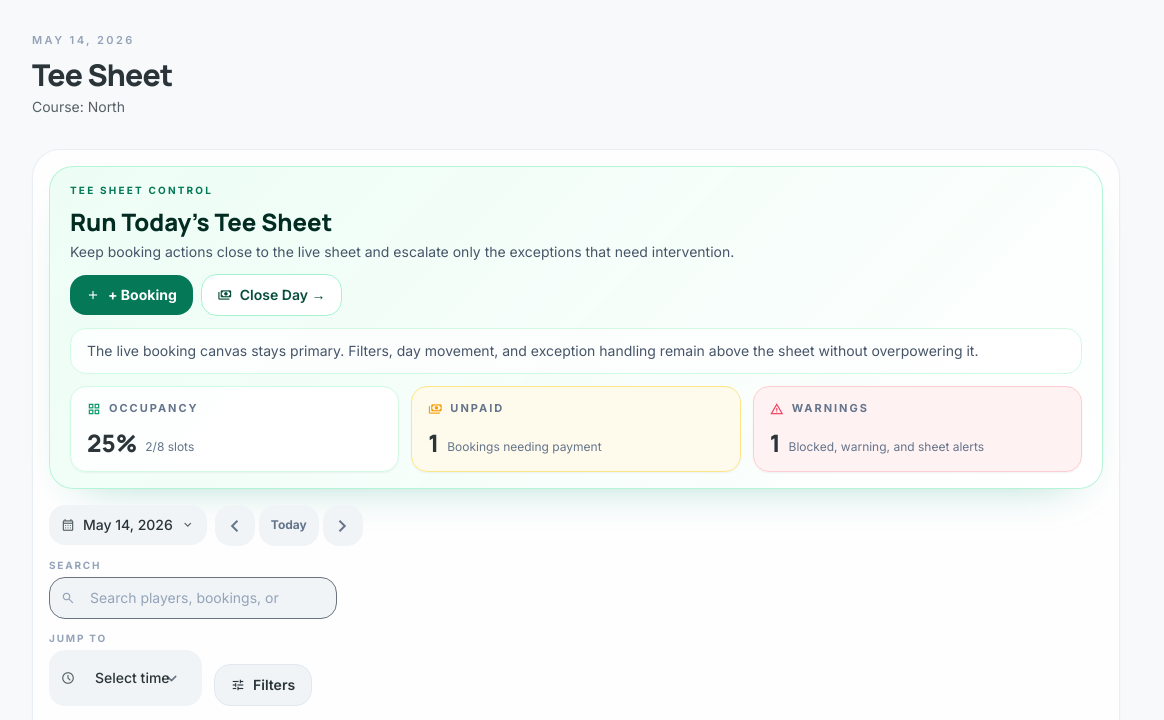
AdminGolfTeeSheetPage › opens secondary controls from the filters and view panel only
What coordinates should you click on to do the following:
click the button with test id "filters-view-toggle"
I would click on:
 (263, 685)
Its box is [214,664,312,706].
(page scrolled)
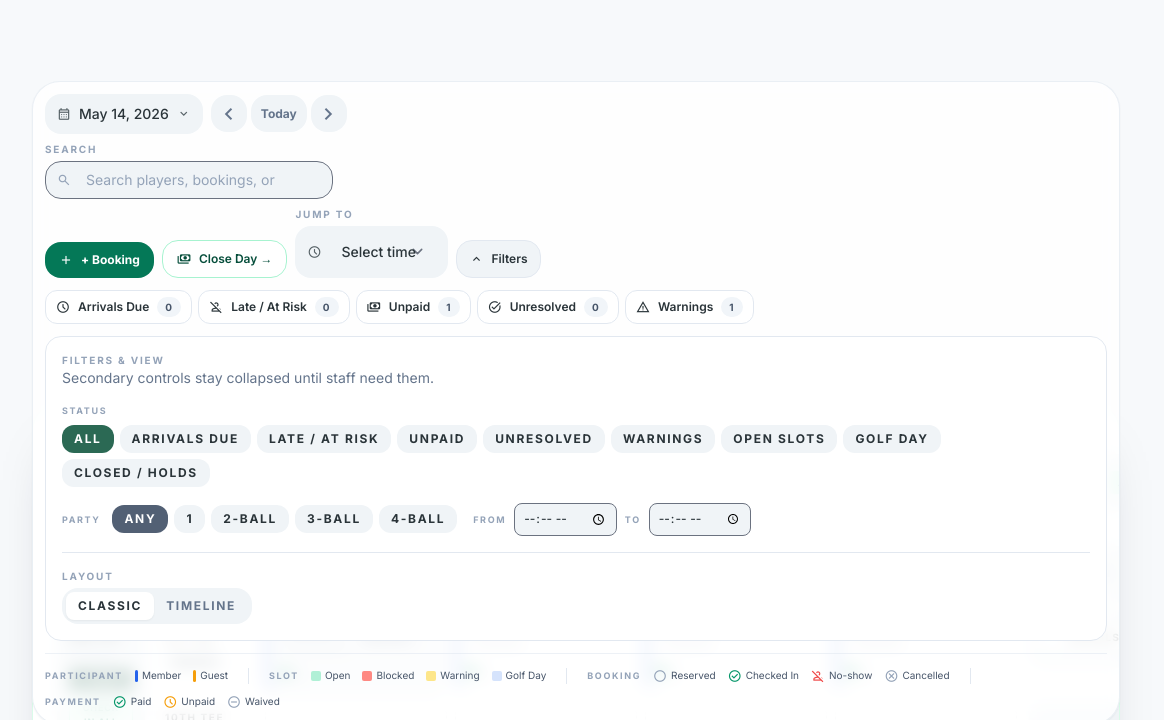
Expected: the element with test id "filters-view-panel" is shown, [45,335,1107,640]
Expected: the button "Classic" is shown, [66,591,154,619]
Expected: the button "Timeline" is shown, [154,591,248,619]
